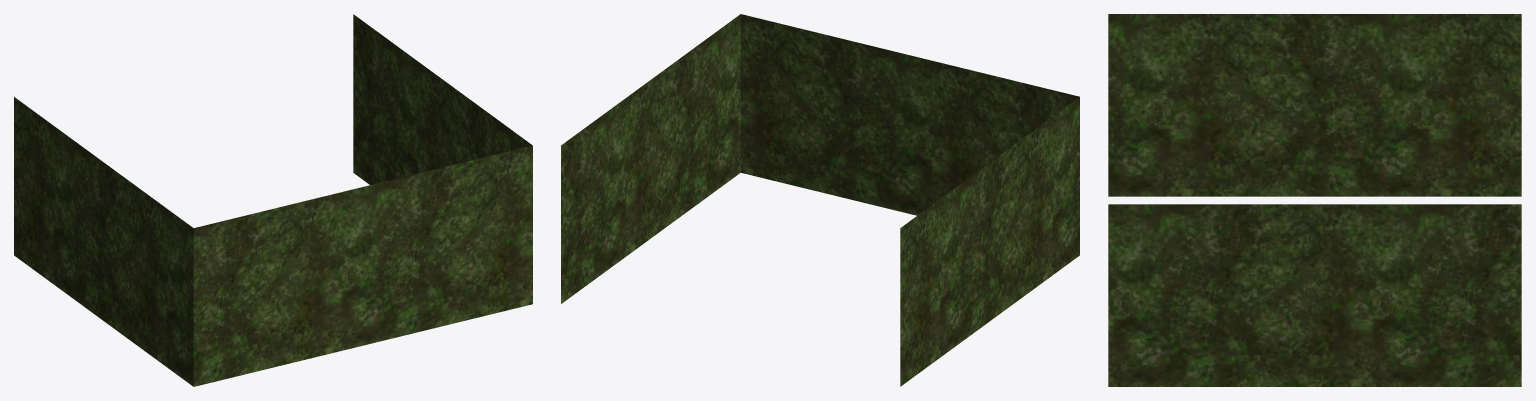
File: OVERHILL_A_01_LINE217.fbx
3 views of the same model, side by side, from view 1: azimuth 30°, elevation 25°; view 2: azimuth 150°, elevation 25°; view 3: azimuth 270°, elevation 25° (orthographic). The views are drawn at different scales.
Visible parts, largest first — view 1: OVERHILL_A_01_LINE217; view 2: OVERHILL_A_01_LINE217; view 3: OVERHILL_A_01_LINE217.
Part boxes in pixels (x1,y1,x2,y2): OVERHILL_A_01_LINE217: (14, 14, 532, 386); OVERHILL_A_01_LINE217: (561, 14, 1079, 386); OVERHILL_A_01_LINE217: (1108, 14, 1521, 386).
Size of the model in its own units: 53148 by 23776 by 48762.
Materials: 1 (1 with a texture image).
